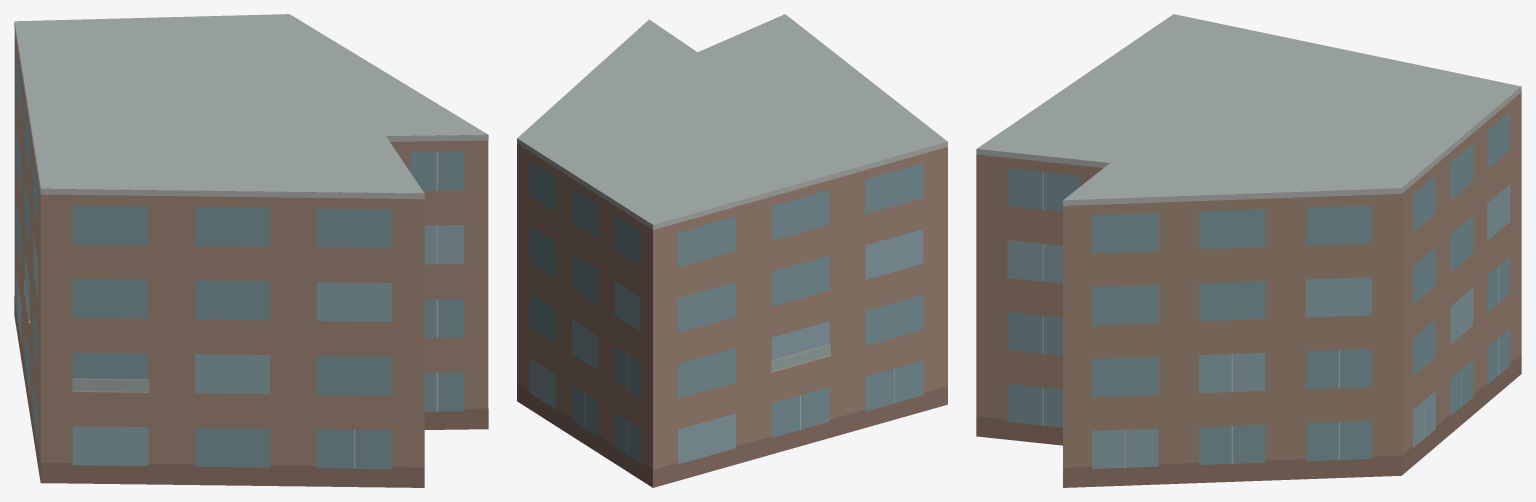
Rendered from survey-upis-32621013.glb.
3 renders of one model, left to right at view 1: azimuth 30°, elevation 25°; view 2: azimuth 150°, elevation 25°; view 3: azimuth 270°, elevation 25°, orthographic. The views are drawn at different scales.
Visible parts, largest first — view 1: survey-upis-32621013.tmp; view 2: survey-upis-32621013.tmp; view 3: survey-upis-32621013.tmp.
Boxes of the visible parts, box(x1,y1,x2,y2) form: survey-upis-32621013.tmp: box(14, 14, 488, 487); survey-upis-32621013.tmp: box(517, 14, 947, 487); survey-upis-32621013.tmp: box(976, 14, 1521, 487).
Size of the model in its own units: 17.25 by 12.4 by 21.31.
